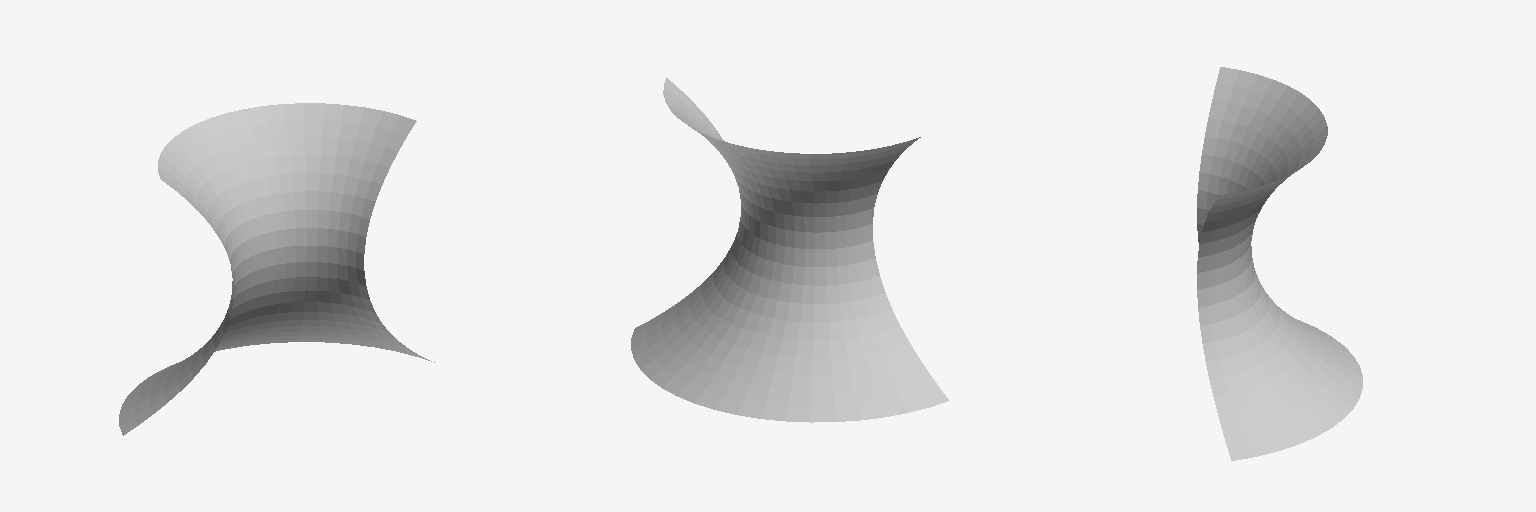
Rendered from Hyperboloid_Qstart.obj.
The picture shows the model from 3 angles: view 1: azimuth 30°, elevation 25°; view 2: azimuth 150°, elevation 25°; view 3: azimuth 270°, elevation 25°; orthographic projection.
Parts seen in each view (by area): view 1: [local-path]/hanan/hananLab/QS_project/data/Remeshing/Hyperboloi; view 2: [local-path]/hanan/hananLab/QS_project/data/Remeshing/Hyperboloi; view 3: [local-path]/hanan/hananLab/QS_project/data/Remeshing/Hyperboloi.
Boxes of the visible parts, x1,y1,x2,y2 form: [local-path]/hanan/hananLab/QS_project/data/Remeshing/Hyperboloi: [119, 103, 434, 435]; [local-path]/hanan/hananLab/QS_project/data/Remeshing/Hyperboloi: [631, 77, 948, 422]; [local-path]/hanan/hananLab/QS_project/data/Remeshing/Hyperboloi: [1197, 67, 1362, 460].
Bounding box in the file's own units: 1.59 × 1.24 × 0.7257.